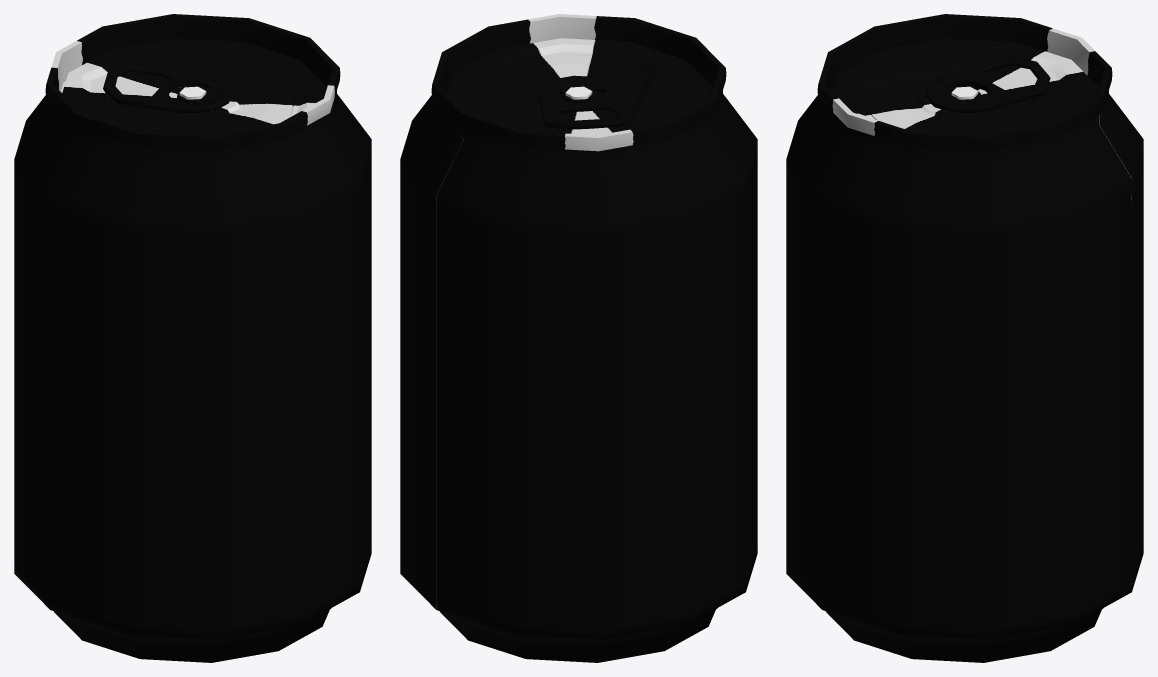
Rendered from VIC_Croptop_WebCanTest-2.gltf.
3 views of the same model, side by side, from view 1: azimuth 30°, elevation 25°; view 2: azimuth 150°, elevation 25°; view 3: azimuth 270°, elevation 25° (orthographic).
Visible parts, largest first — view 1: Can_Mid, Can_Top, Pull Tab; view 2: Can_Mid, Can_Top, Pull Tab; view 3: Can_Mid, Can_Top, Pull Tab.
Boxes of the visible parts, left/top/right/bottom form: Can_Mid: left=14, top=91, right=371, bottom=662; Can_Top: left=45, top=14, right=340, bottom=151; Pull Tab: left=103, top=63, right=232, bottom=113; Can_Mid: left=400, top=91, right=757, bottom=662; Can_Top: left=431, top=14, right=726, bottom=151; Pull Tab: left=538, top=75, right=631, bottom=129; Can_Mid: left=786, top=91, right=1143, bottom=662; Can_Top: left=817, top=14, right=1112, bottom=151; Pull Tab: left=925, top=56, right=1050, bottom=113.
Size of the model in its own units: 10.03 by 16.35 by 10.03.
Materials: 4 (3 with a texture image).
